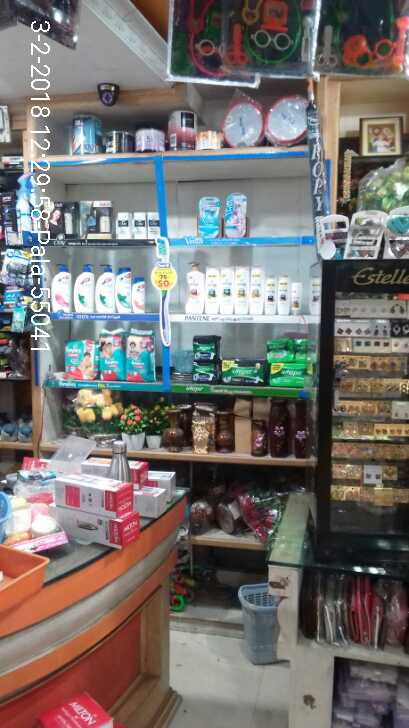ambipureVesus: (13, 170, 39, 243), (1, 249, 33, 285)
venus: (223, 192, 248, 238), (198, 197, 222, 238)
